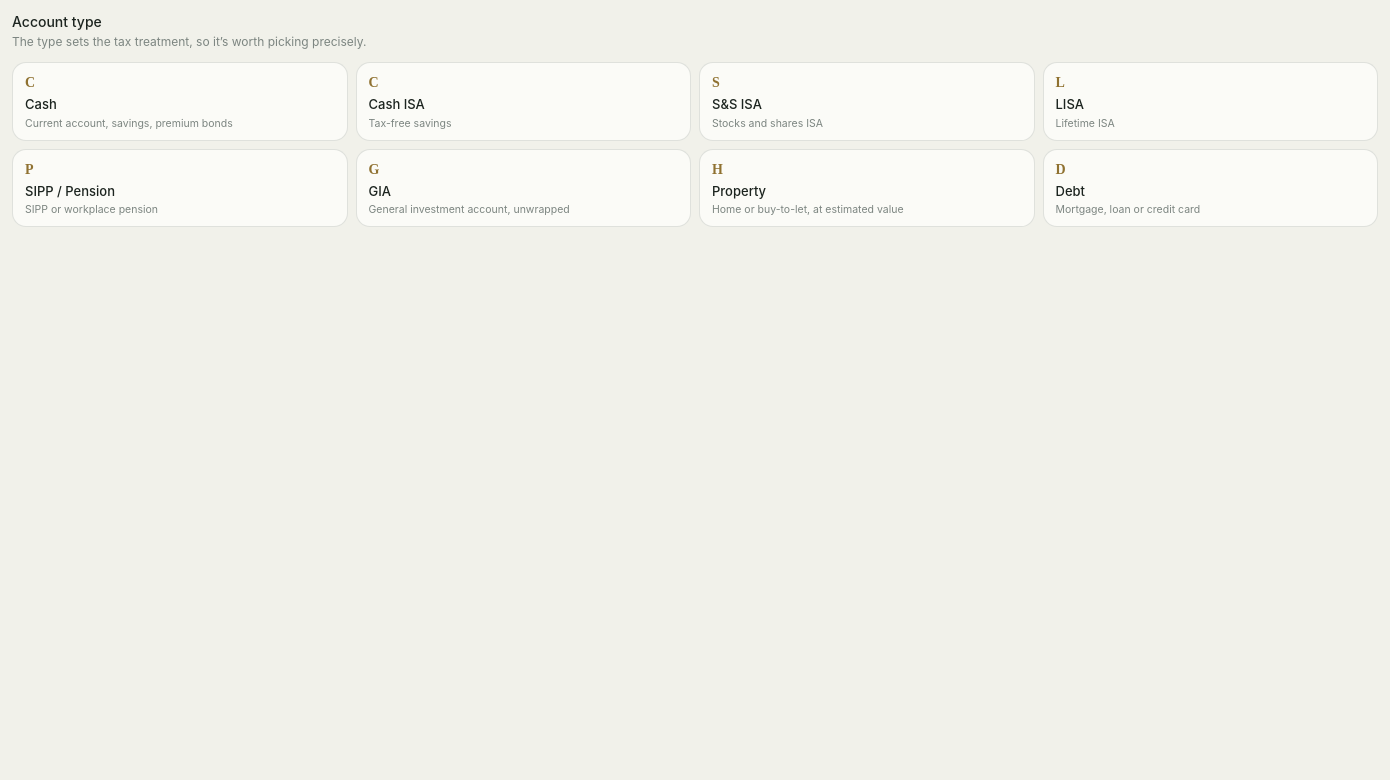
Test: conditional fields by type › shows the LISA explanatory note only for a LISA
Click the button "L LISA Lifetime ISA".
click(1085, 123)  # box [1042,62,1378,141]
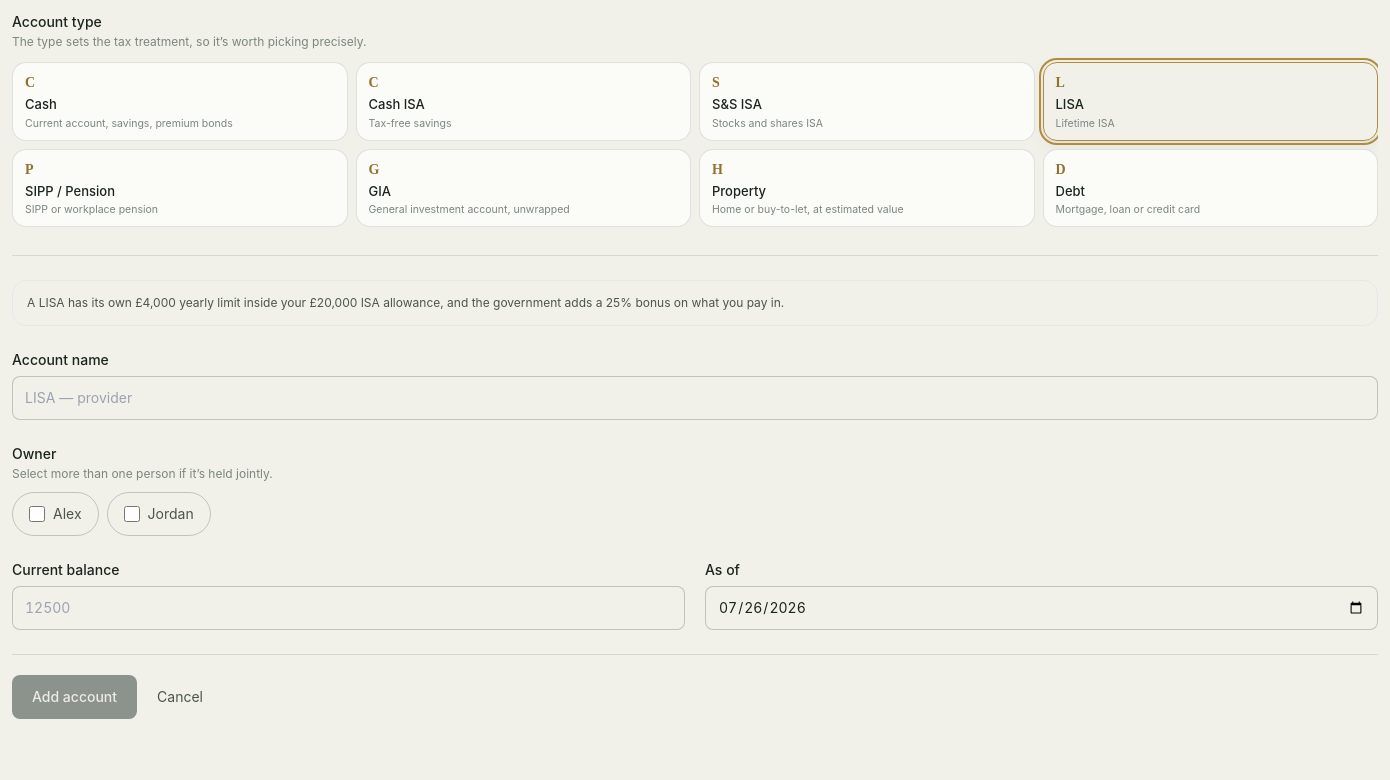
Check: the text "25% bonus" is shown, box [27,295,784,310]
Click the button "C Cash ISA Tax-free savings".
click(397, 104)  # box [356,62,691,141]
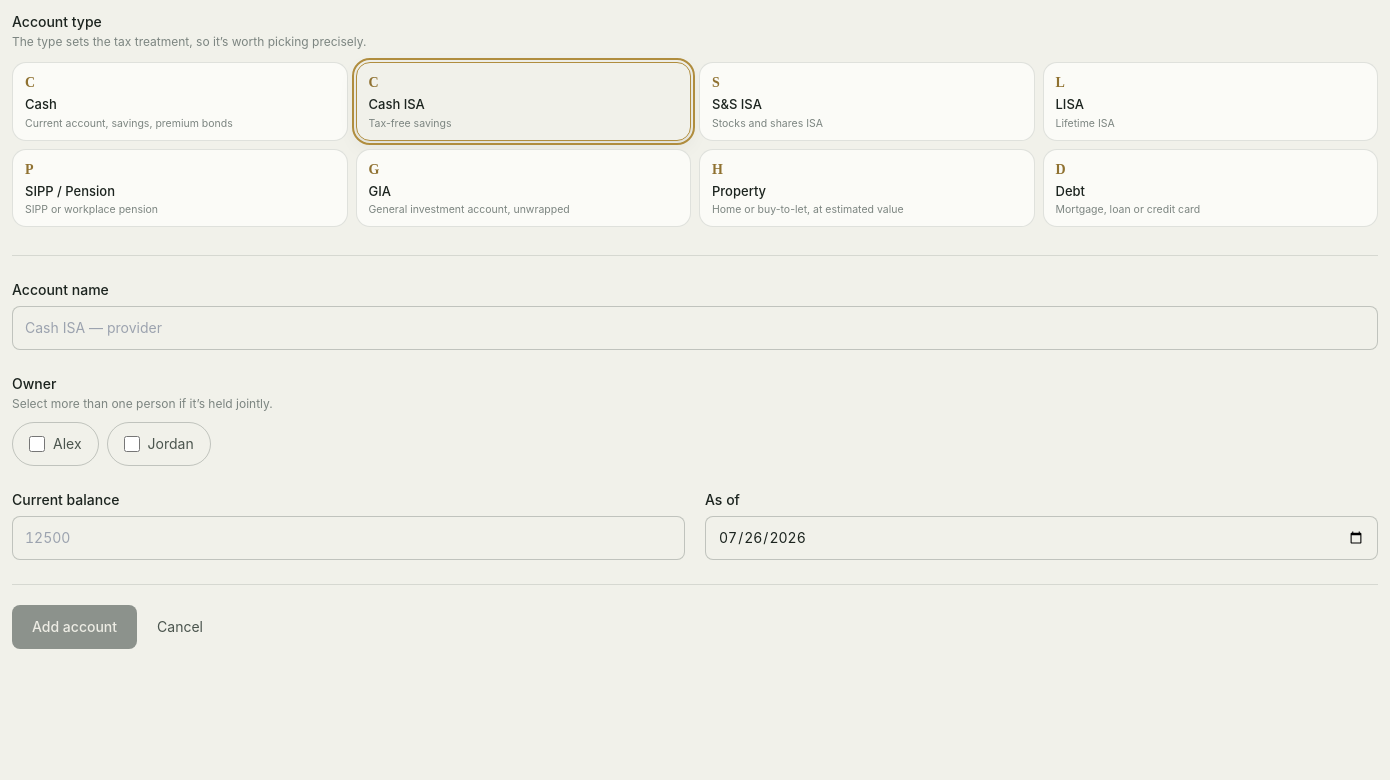
Check: the text "£4,000 yearly limit" is gone
